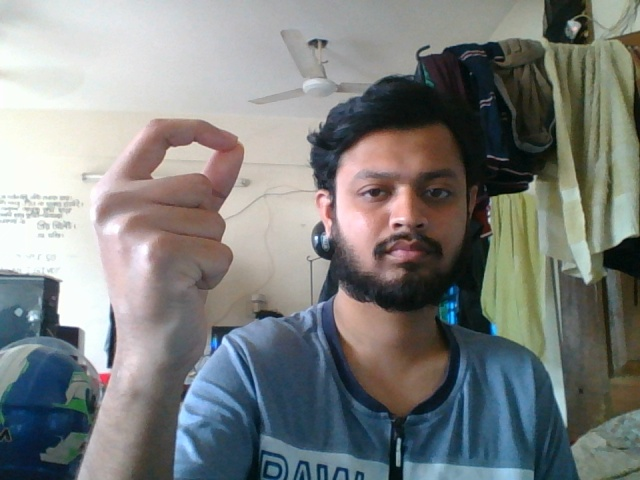gha: (88, 95, 253, 455)
